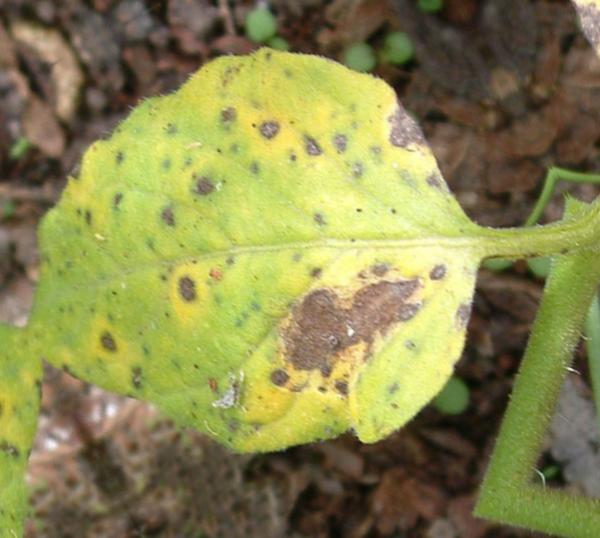Tomato Early blight leaf: (0, 0, 564, 538)
